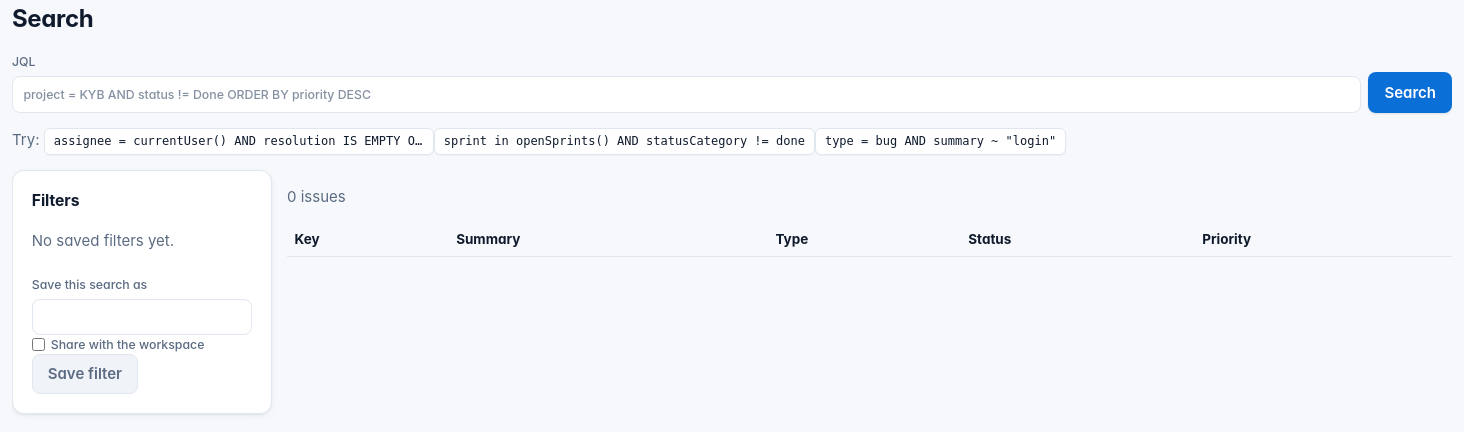
Scenario: SearchPage › runs JQL, shows results, saves and deletes a filter
Expected: the text "No saved filters yet." is shown, x1=32 y1=231 x2=174 y2=250
Type "type = bug" into the dropdown labelled "JQL" at (686, 94), box x1=12 y1=76 x2=1361 y2=112
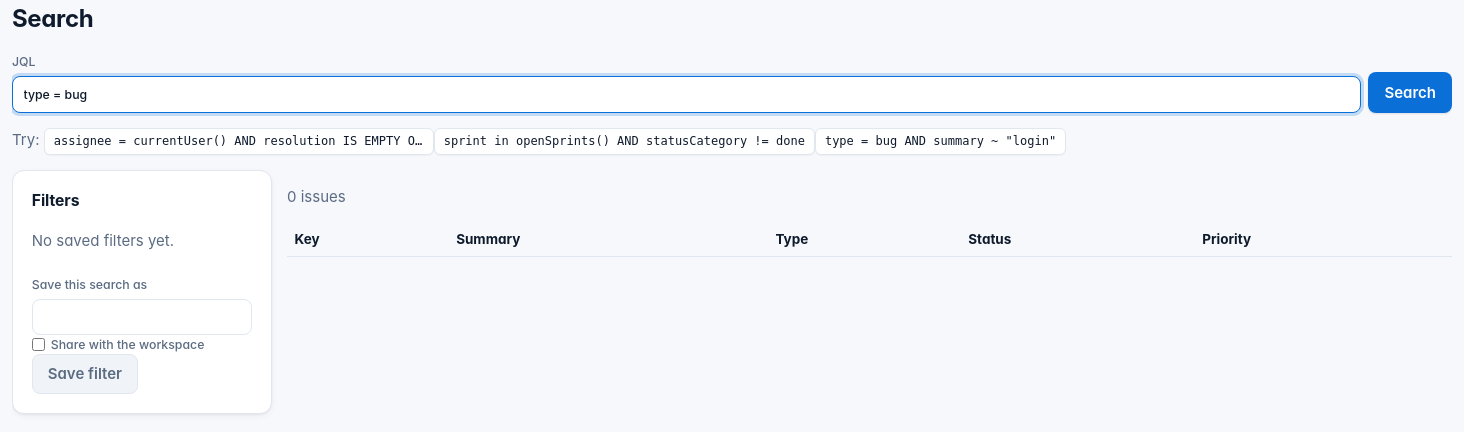
Click the button "Search" at (1410, 92), box x1=1368 y1=72 x2=1452 y2=113
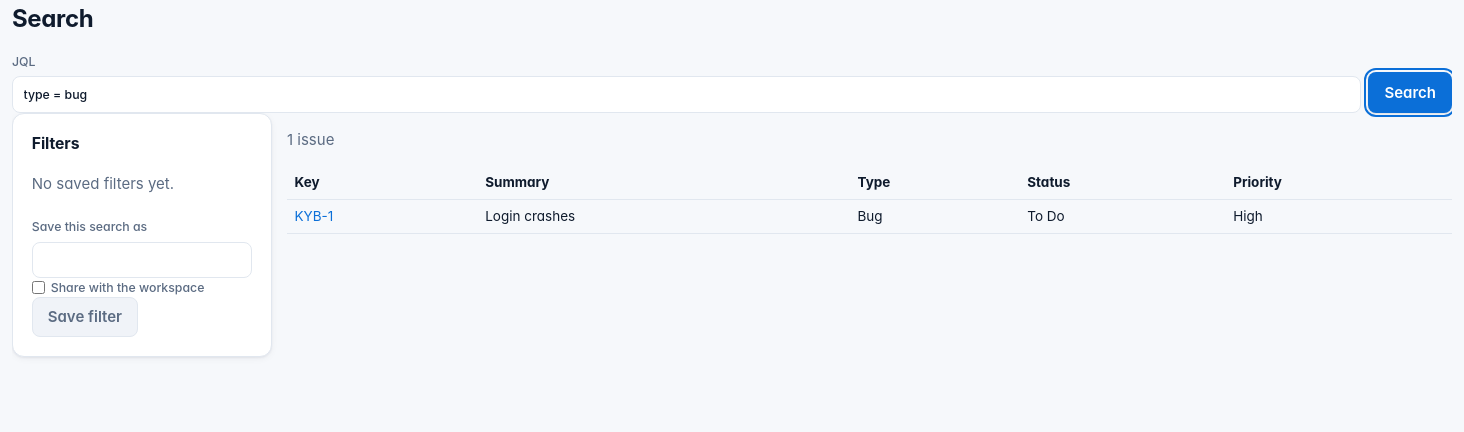
Expected: the text "1 issue" is shown, x1=287 y1=130 x2=334 y2=148
Type "Bugs" into the field labelled "Save this search as" at (142, 260), box x1=32 y1=242 x2=252 y2=278
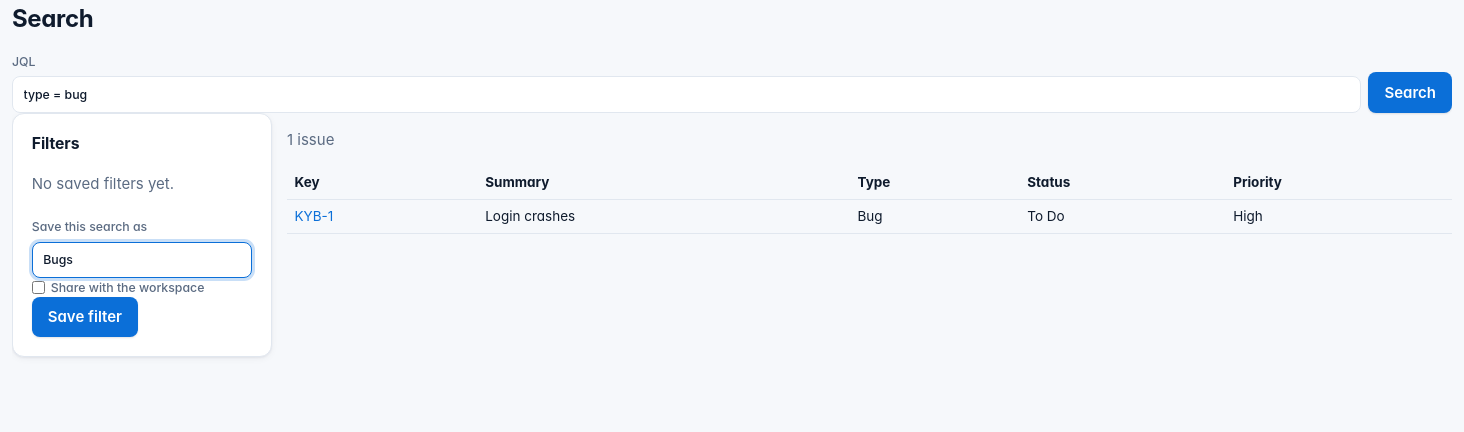
Click the checkbox labelled "Share with the workspace" at (38, 287), box x1=32 y1=281 x2=45 y2=294
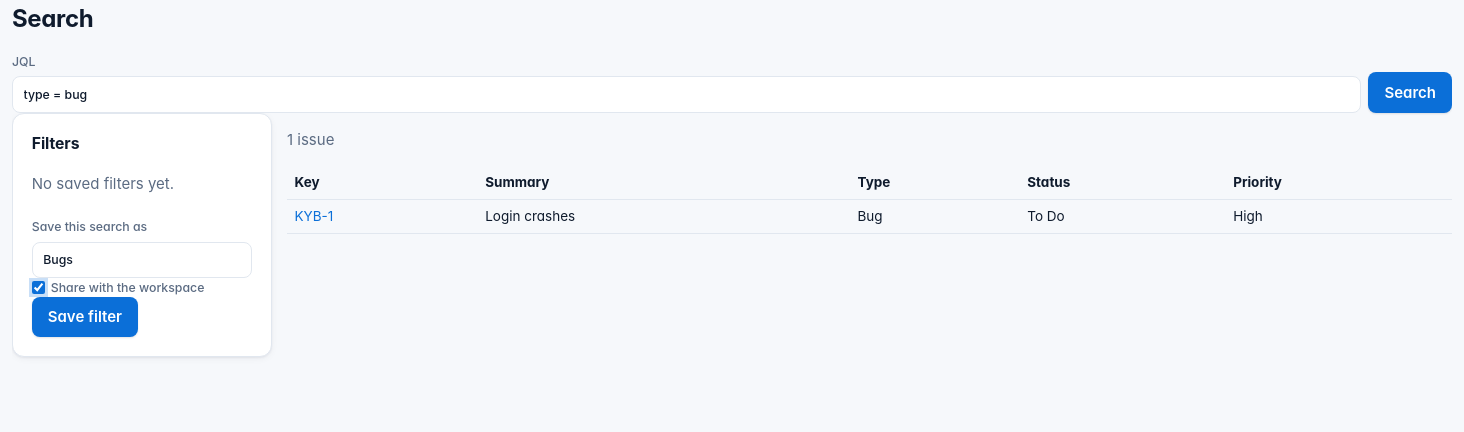
Click the button "Save filter" at (85, 317), box x1=32 y1=297 x2=138 y2=337
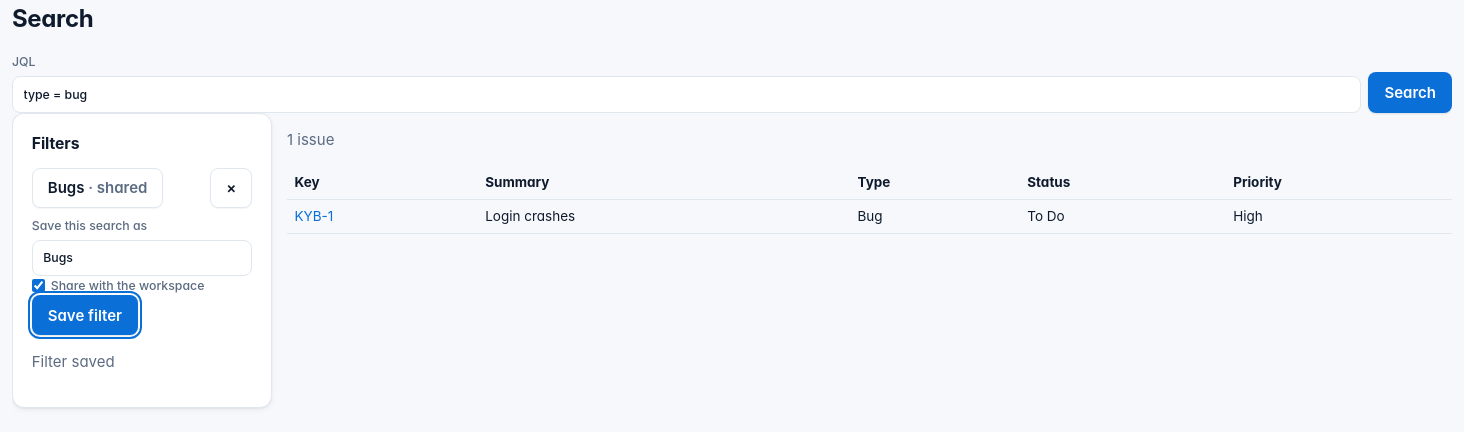
Expected: the message reads "Filter saved", x1=32 y1=352 x2=115 y2=371
Expected: the text "· shared" is shown, x1=84 y1=178 x2=148 y2=197
Click the button named "Delete filter Bugs" at (231, 188), box x1=210 y1=168 x2=252 y2=208
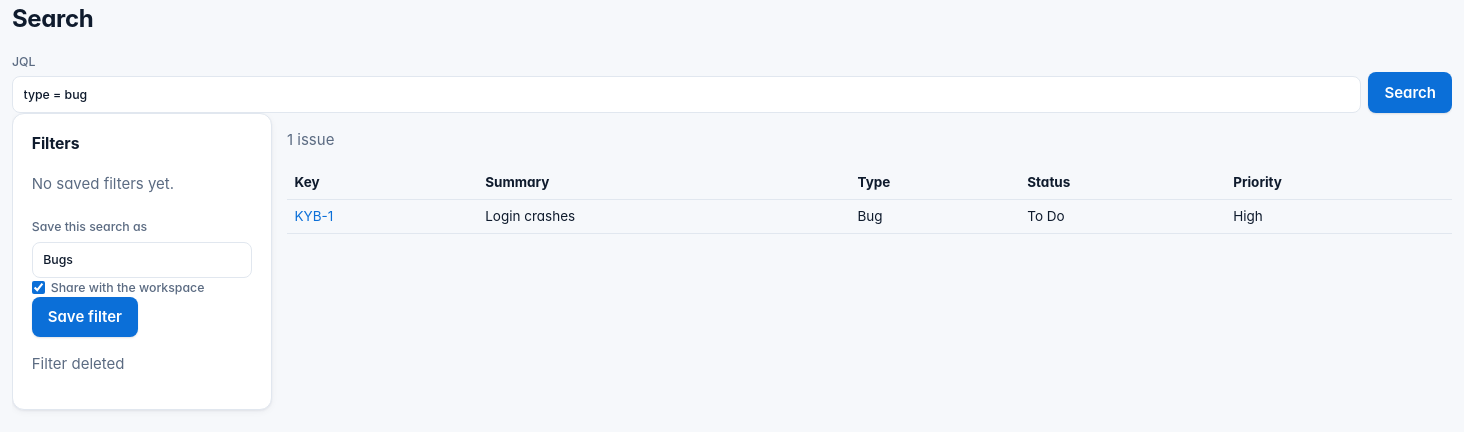
Expected: the text "No saved filters yet." is shown, x1=32 y1=174 x2=174 y2=193
